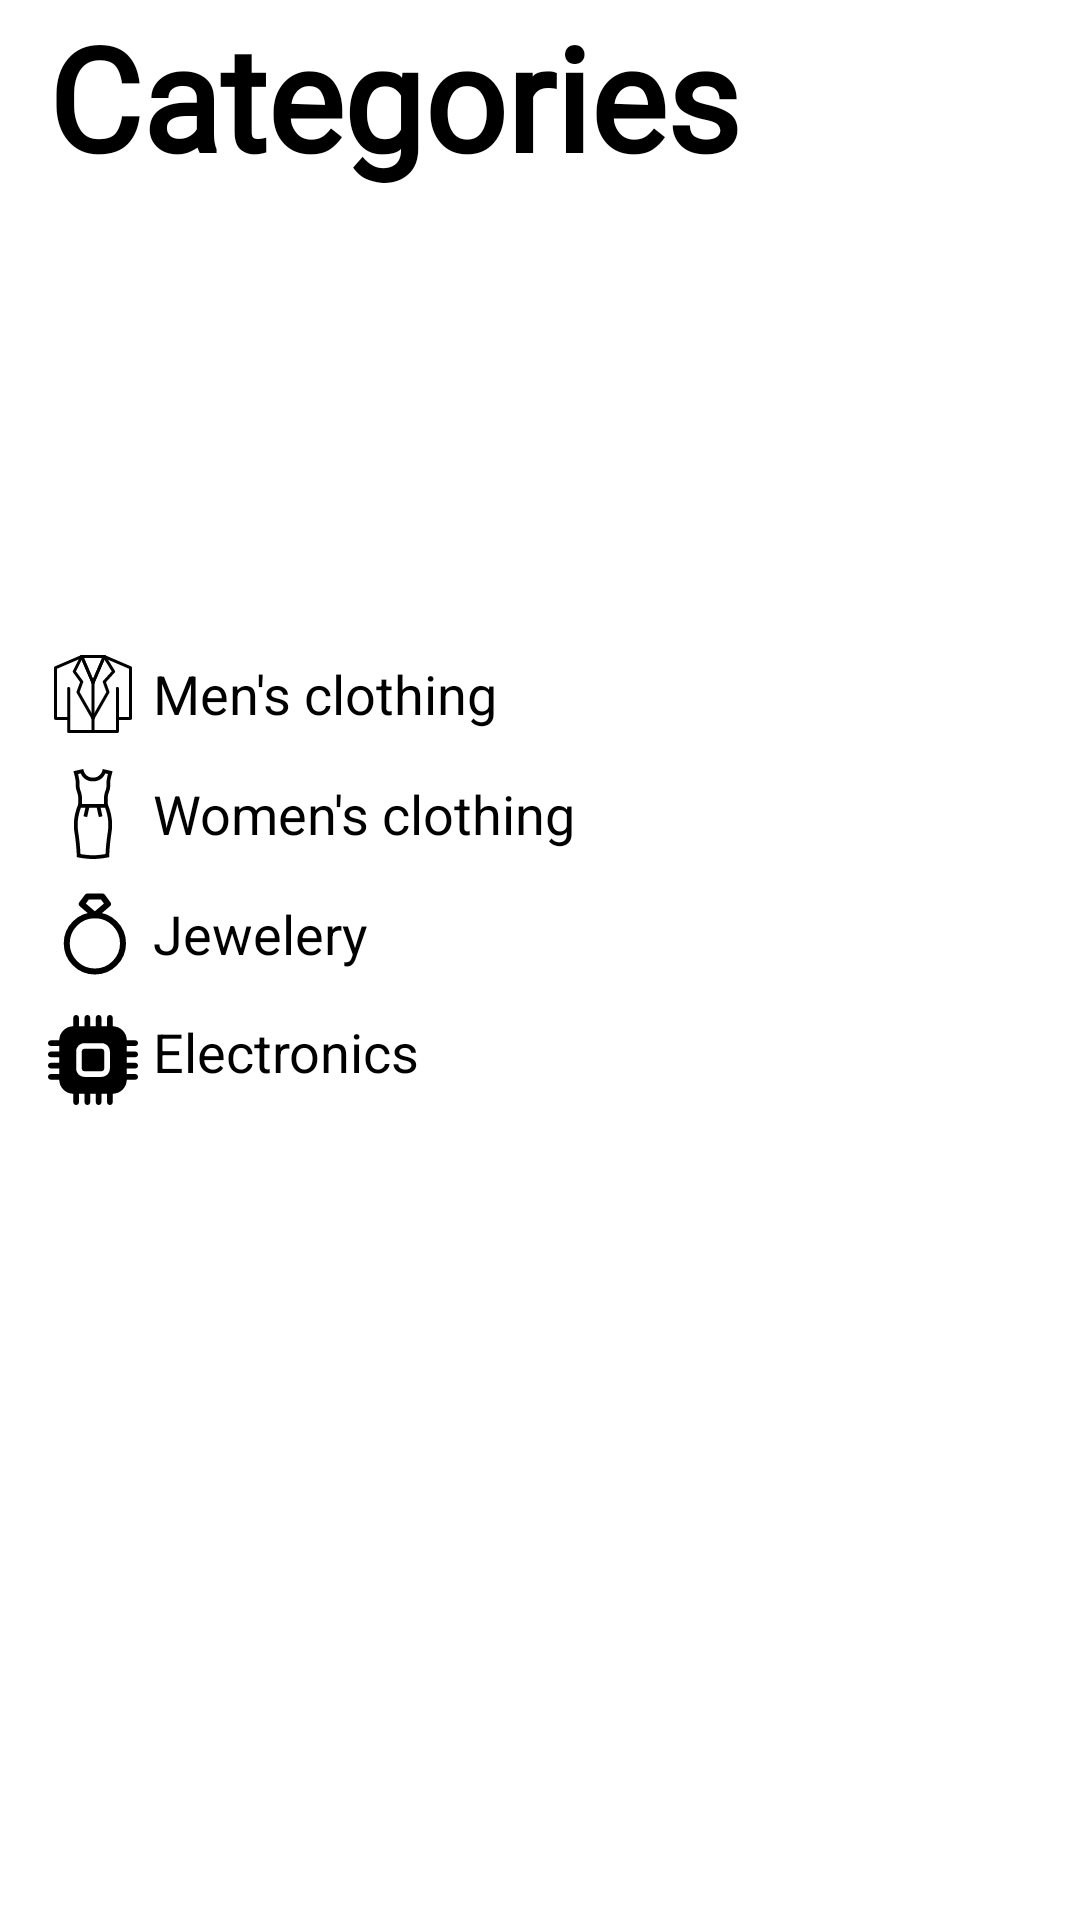

Icons on this 1080px×1920px Android screen, each with its box as (left=x1, top=y1, right=x2, bottom=y2):
cpu: (left=48, top=1015, right=138, bottom=1105)
dress: (left=73, top=769, right=113, bottom=859)
ring: (left=63, top=893, right=126, bottom=975)
suit: (left=54, top=655, right=132, bottom=733)
